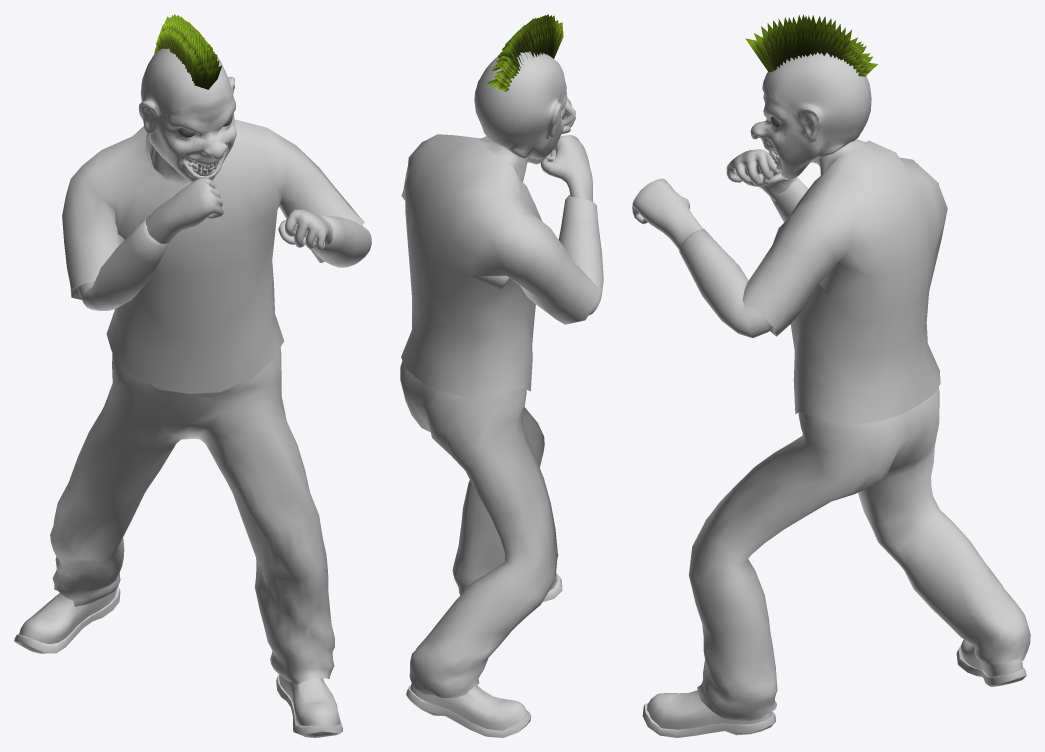
Rendered from Idle (55).obj.
3 views of the same model, side by side, from view 1: azimuth 30°, elevation 25°; view 2: azimuth 150°, elevation 25°; view 3: azimuth 270°, elevation 25° (orthographic). The views are drawn at different scales.
Visible parts, largest first — view 1: shirt, pants, head, forearm_band_01, boots, hand_right, boots001, Hair, forearm_band_002, hand_left, neck; view 2: shirt, pants, head, boots, forearm_band_01, Hair, hand_right, neck, hand_left; view 3: pants, shirt, head, forearm_band_002, Hair, boots001, hand_left, hand_right, boots, forearm_band_01.
Boxes of the visible parts, x1=… form: shirt: x1=62, y1=119, x2=364, y2=393; pants: x1=50, y1=347, x2=334, y2=684; head: x1=138, y1=48, x2=236, y2=182; forearm_band_01: x1=78, y1=218, x2=168, y2=310; boots: x1=14, y1=586, x2=120, y2=653; hand_right: x1=145, y1=177, x2=223, y2=243; boots001: x1=276, y1=674, x2=342, y2=737; Hair: x1=154, y1=14, x2=222, y2=89; forearm_band_002: x1=312, y1=215, x2=371, y2=267; hand_left: x1=278, y1=209, x2=332, y2=250; neck: x1=145, y1=131, x2=189, y2=184; shirt: x1=401, y1=134, x2=598, y2=397; pants: x1=400, y1=361, x2=558, y2=697; head: x1=474, y1=51, x2=566, y2=164; boots: x1=406, y1=683, x2=531, y2=737; forearm_band_01: x1=558, y1=195, x2=603, y2=315; Hair: x1=486, y1=14, x2=563, y2=91; hand_right: x1=540, y1=135, x2=592, y2=201; neck: x1=480, y1=139, x2=529, y2=181; hand_left: x1=561, y1=97, x2=575, y2=134; pants: x1=688, y1=387, x2=1030, y2=720; shirt: x1=742, y1=140, x2=947, y2=425; head: x1=750, y1=52, x2=871, y2=179; forearm_band_002: x1=679, y1=228, x2=772, y2=337; Hair: x1=745, y1=14, x2=877, y2=76; boots001: x1=642, y1=690, x2=775, y2=737; hand_left: x1=632, y1=178, x2=702, y2=249; hand_right: x1=726, y1=149, x2=796, y2=201; boots: x1=956, y1=639, x2=1026, y2=686; forearm_band_01: x1=770, y1=177, x2=808, y2=222.
Size of the model in its own units: 68.35 by 180 by 95.09.
